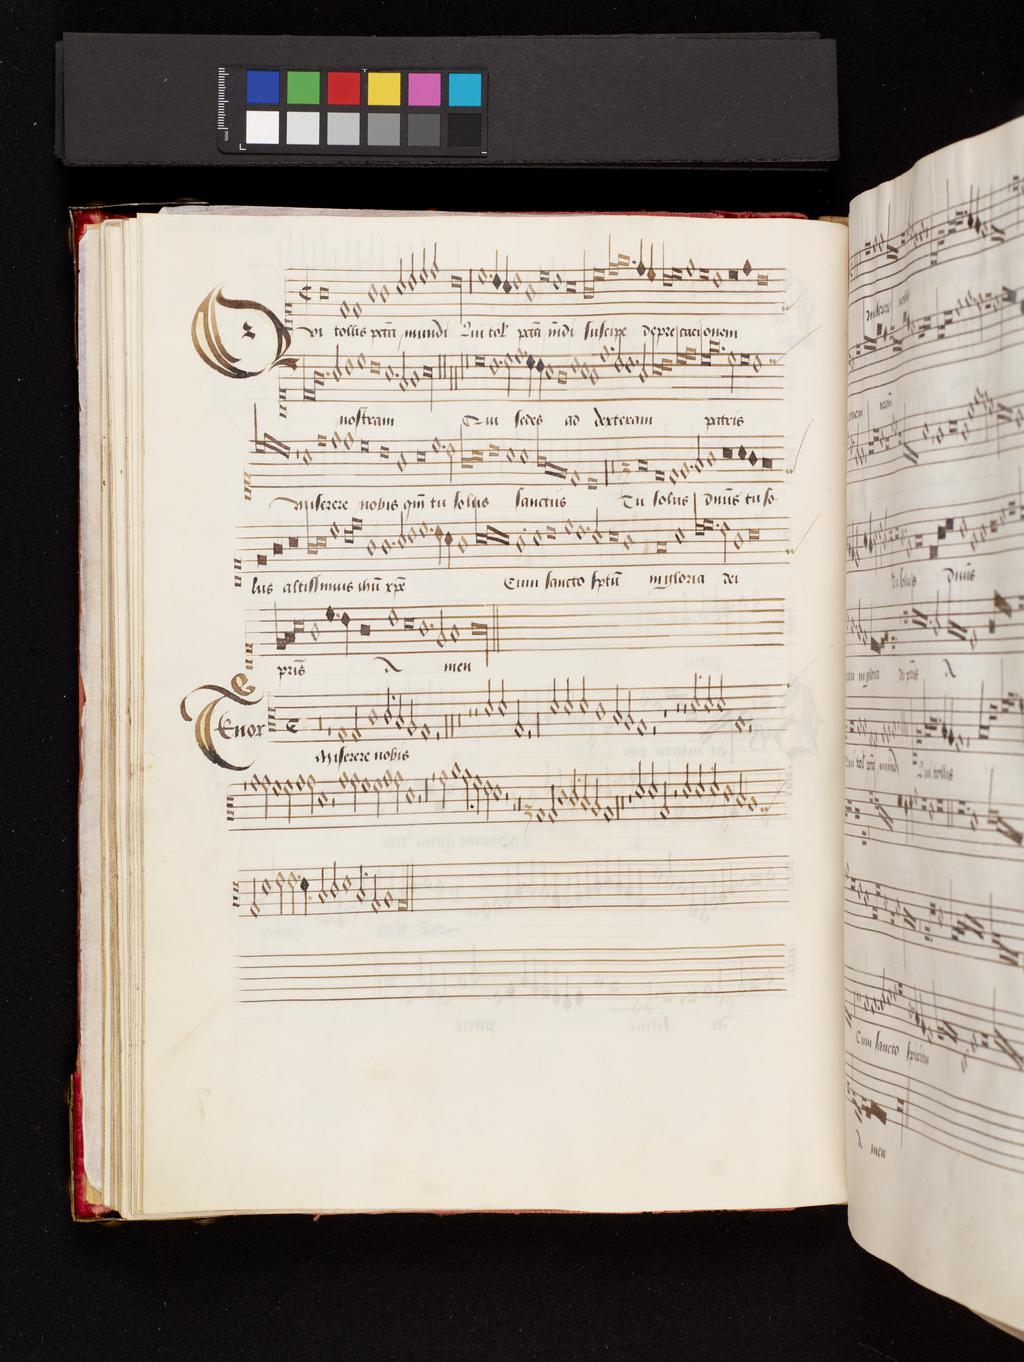Imaj: (285, 710, 305, 743)
breve rest: (314, 689, 326, 749), (453, 681, 463, 744)
c clef_7: (265, 697, 279, 740)
custos_3: (765, 666, 808, 696)
longa rest: (532, 681, 542, 746), (440, 683, 449, 746), (449, 681, 455, 744)
minim rest: (650, 680, 660, 742), (524, 682, 534, 747), (465, 679, 474, 742), (432, 686, 442, 744), (471, 680, 480, 742), (672, 675, 681, 737), (681, 680, 689, 736), (746, 680, 753, 739)
minim_10: (511, 691, 525, 742)
minim_11: (350, 696, 364, 746)
minim_6: (482, 672, 497, 723), (561, 669, 577, 720), (577, 670, 592, 720), (546, 671, 561, 720), (496, 671, 510, 722), (688, 668, 702, 718), (702, 668, 716, 718), (714, 669, 727, 715)
minim_7: (381, 679, 393, 729)
minim_8: (611, 678, 624, 727), (394, 685, 406, 735)
minim_9: (406, 689, 418, 740), (623, 684, 636, 732)
point: (694, 670, 705, 684), (388, 689, 398, 704)
semibreve rest: (324, 690, 335, 748), (659, 677, 669, 741)
semibreve_10: (634, 710, 651, 742), (417, 714, 433, 746), (335, 719, 351, 749), (733, 707, 746, 737)
semibreve_7: (365, 701, 381, 730), (593, 698, 609, 726)
